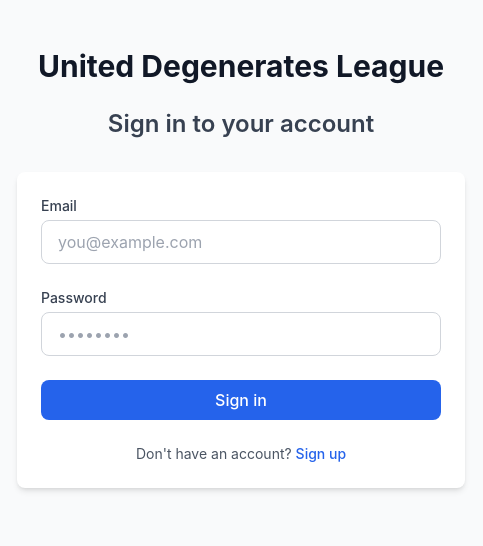
Test: Login — failed submission › displays generic fallback when response has no detail
Type "a@b.com" into the field labelled "Email" at (241, 242), box [41, 220, 441, 264]
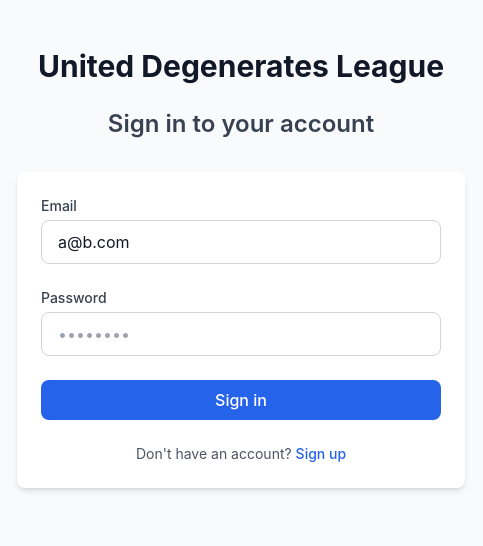
Type "pass" into the password field labelled "Password" at (241, 334), box [41, 312, 441, 356]
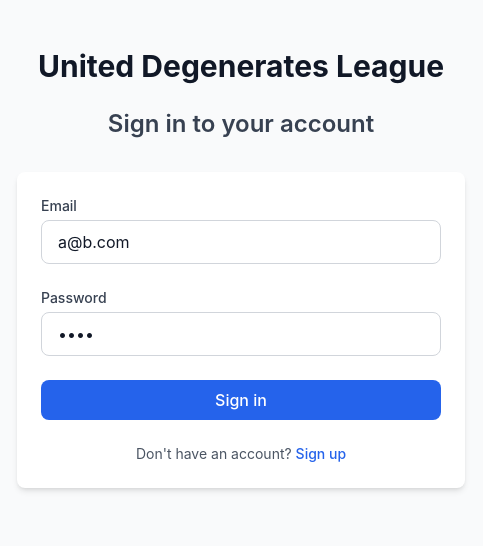
Click the button "Sign in" at (241, 400), box [41, 380, 441, 420]
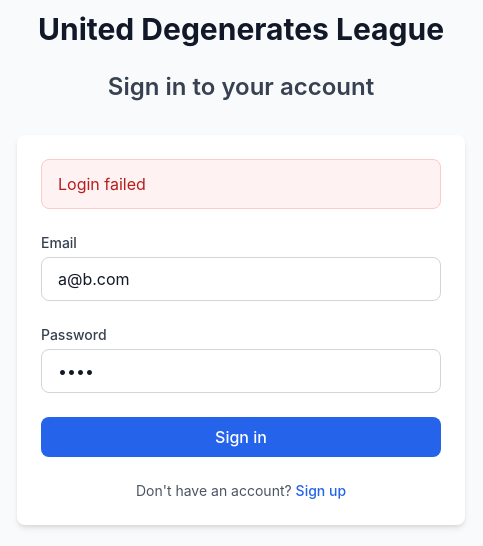
Expected: the text "Login failed" is shown, [41, 159, 441, 209]
